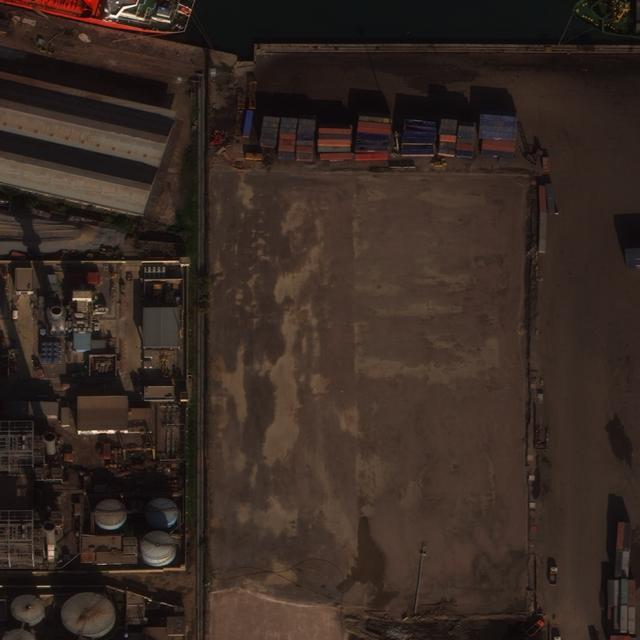Container Ship: (1, 1, 200, 35), (571, 1, 639, 39)
